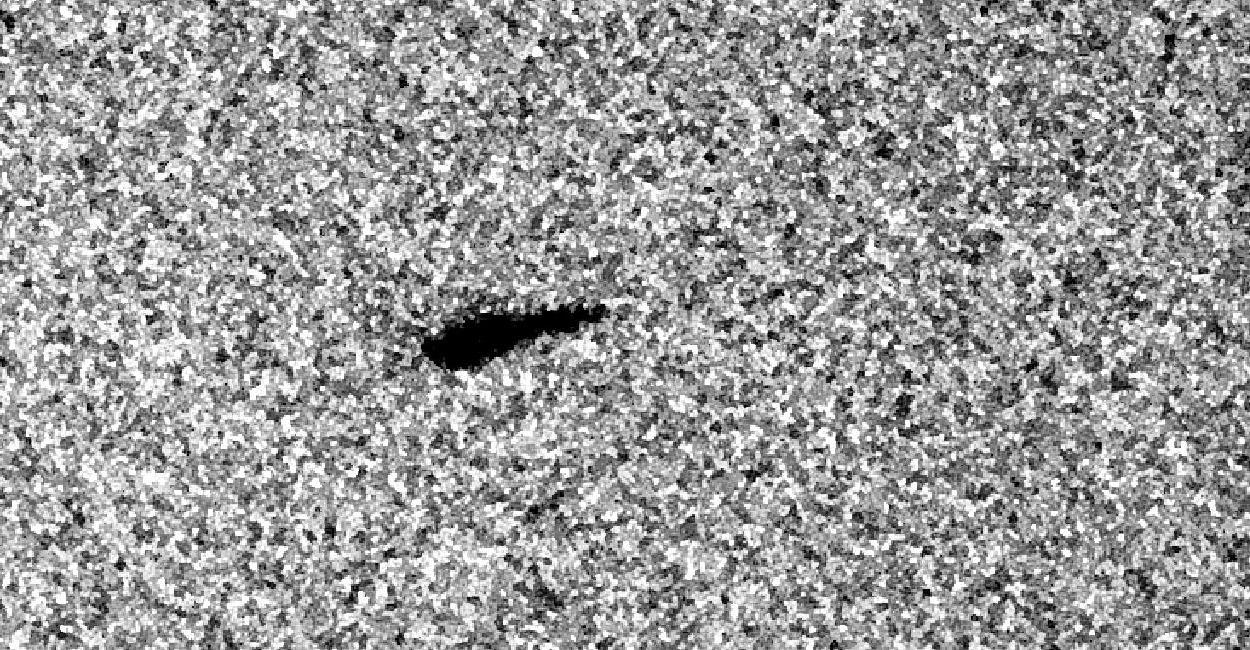Oil Spill: (412, 298, 614, 376)
